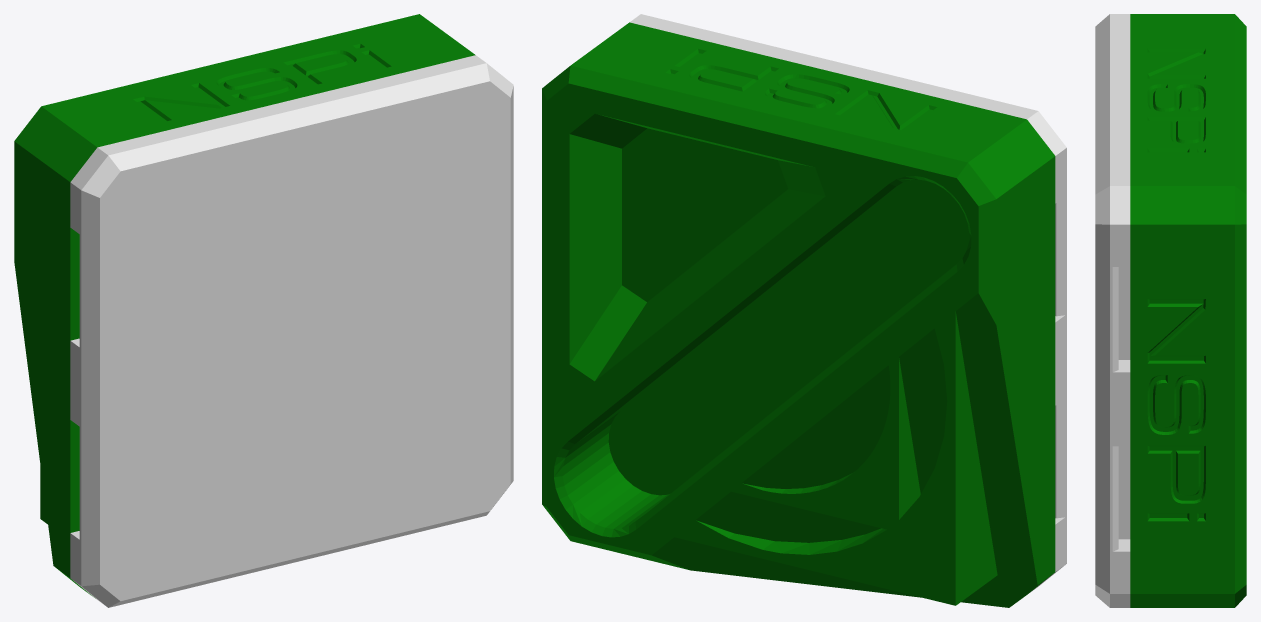
Rendered from modelo_verde_no.glb.
3 renders of one model, left to right at view 1: azimuth 30°, elevation 25°; view 2: azimuth 150°, elevation 25°; view 3: azimuth 270°, elevation 25°, orthographic. The views are drawn at different scales.
Parts seen in each view (by area): view 1: Base, Suporte; view 2: Suporte, Base; view 3: Suporte, Base.
Part boxes in pixels (bbox=[...]): Base: bbox=[70, 55, 513, 607]; Suporte: bbox=[14, 14, 475, 598]; Suporte: bbox=[542, 22, 1055, 607]; Base: bbox=[630, 14, 1066, 592]; Suporte: bbox=[1130, 14, 1246, 607]; Base: bbox=[1095, 14, 1130, 607].
Size of the model in its own units: 80 by 80 by 26.
